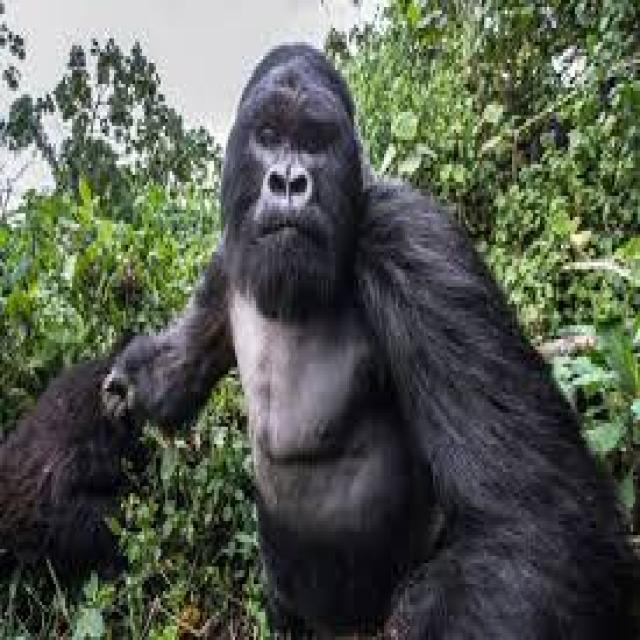Gorilla: (107, 21, 640, 640)
